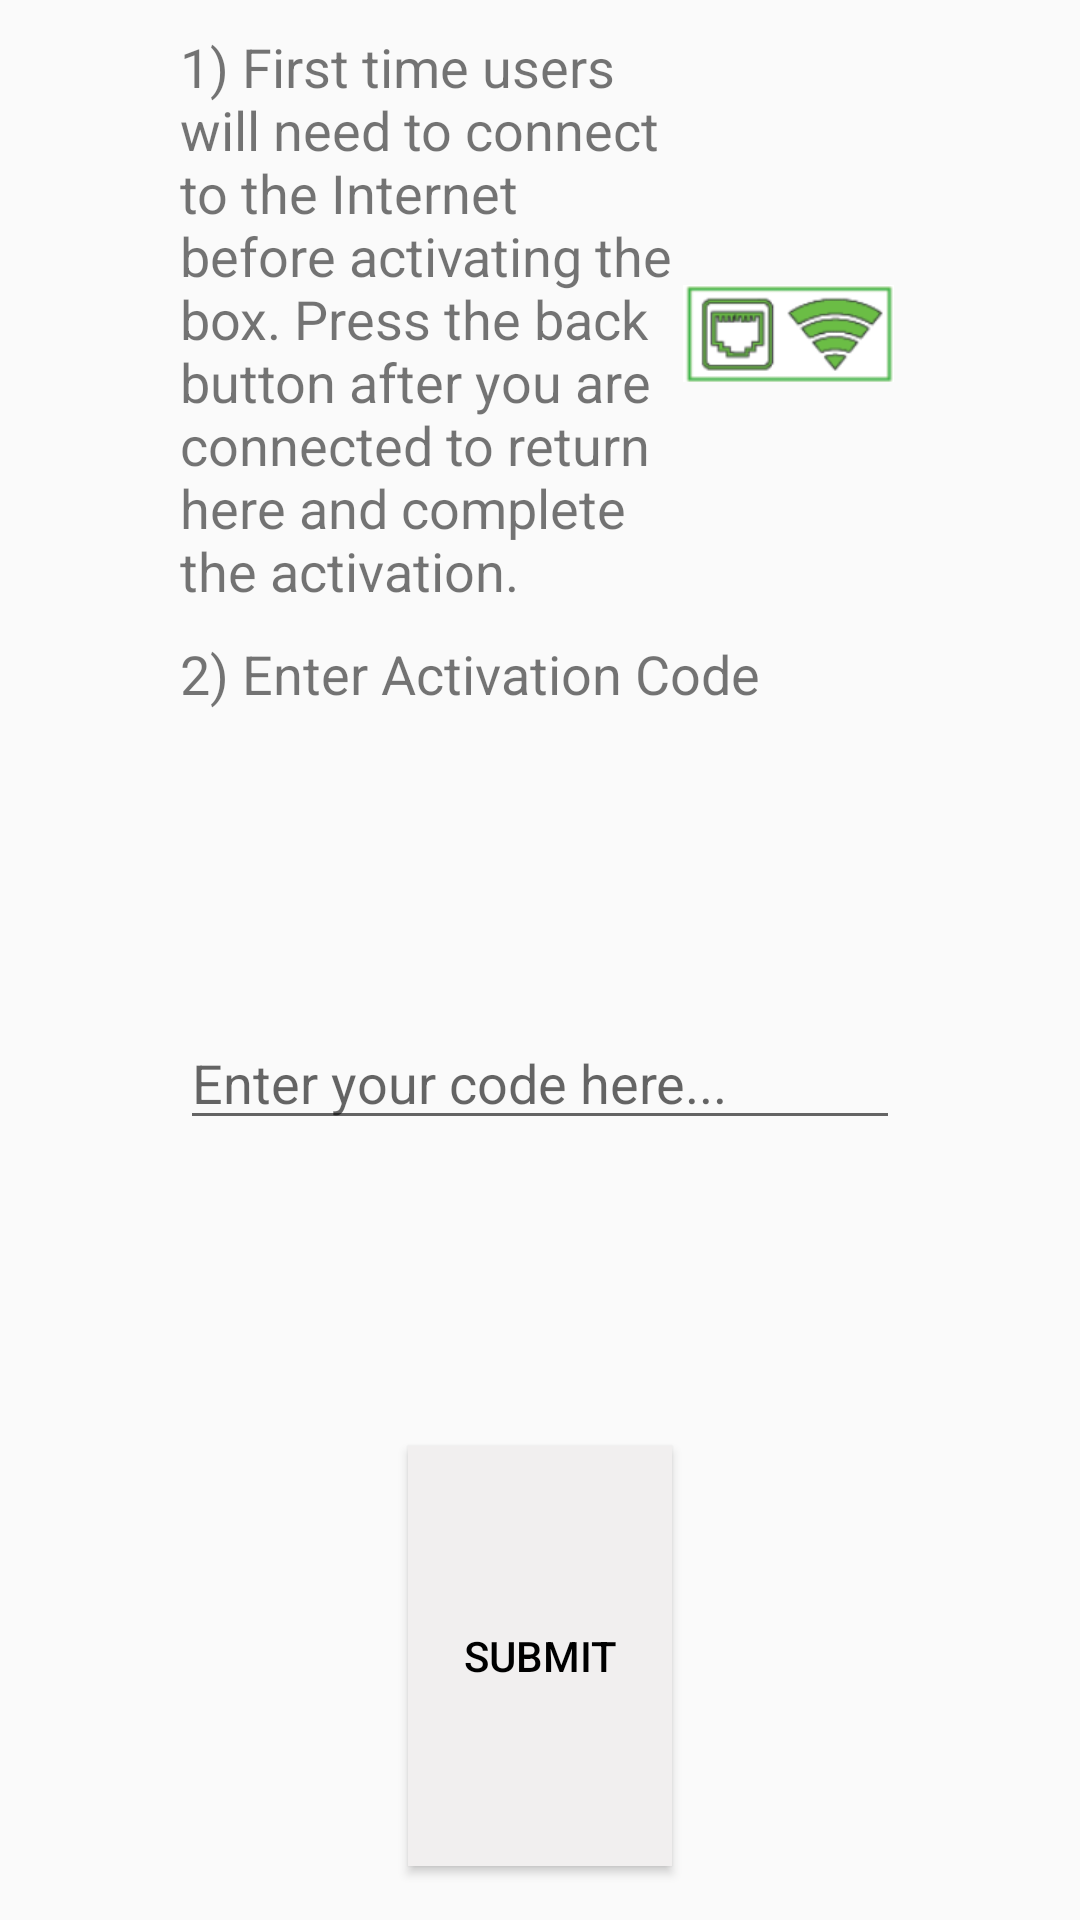

Icon click points for this 1080*1920 phone screenshot, format (x=x, y=y):
start lan wifi: (x=789, y=334)
